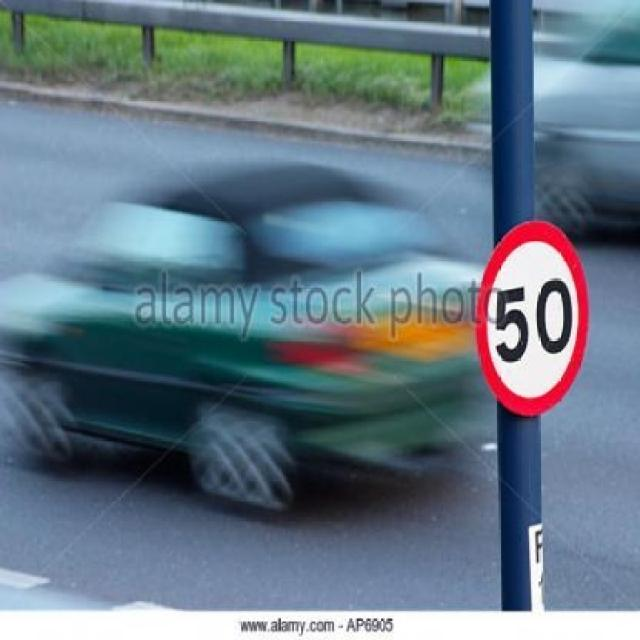forb_speed_over_50: (478, 221, 587, 417)
